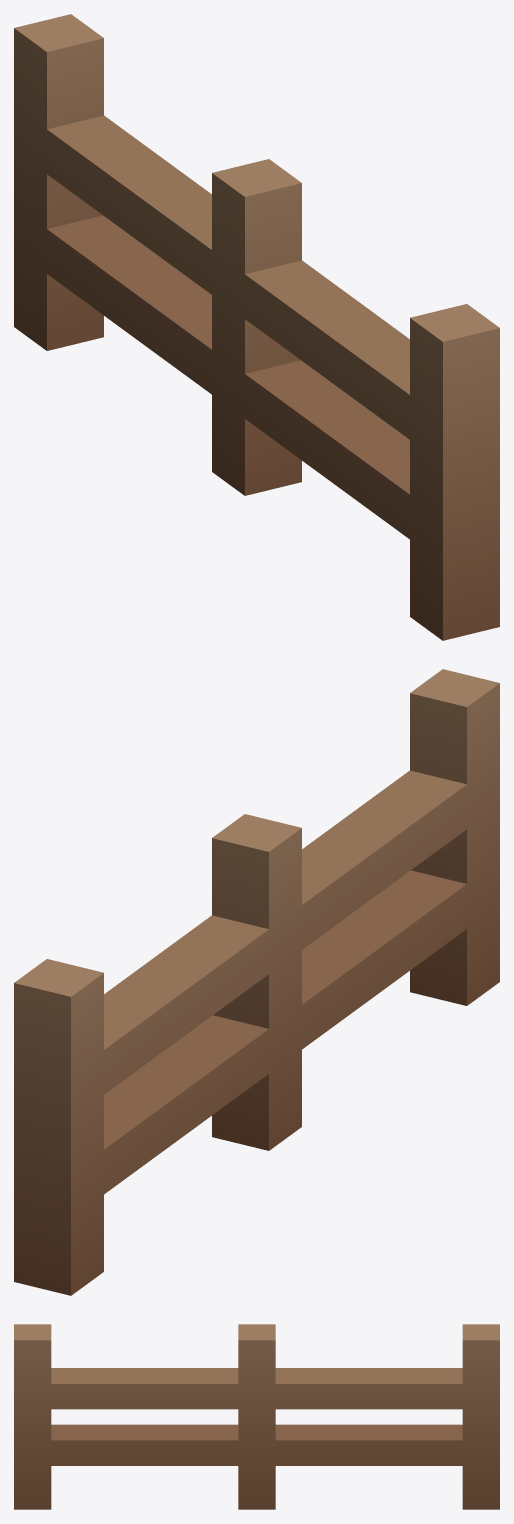
The model's file is fence_long.fbx.
The picture shows the model from 3 angles, top to bottom: view 1: azimuth 30°, elevation 25°; view 2: azimuth 150°, elevation 25°; view 3: azimuth 270°, elevation 25°; orthographic projection. The views are drawn at different scales.
Parts seen in each view (by area): view 1: longFence; view 2: longFence; view 3: longFence.
Boxes of the visible parts, bbox=[...] form: longFence: bbox=[14, 14, 499, 640]; longFence: bbox=[14, 669, 499, 1295]; longFence: bbox=[14, 1324, 499, 1509].
Size of the model in its own units: 20 by 100 by 260.
